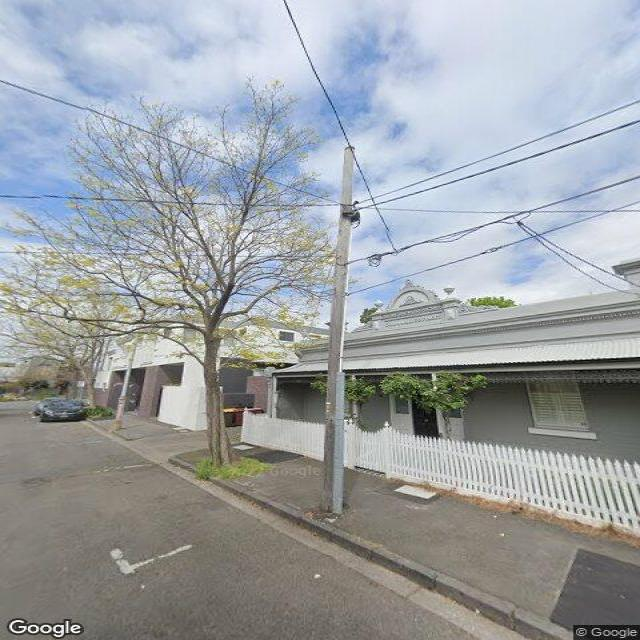timber-pole: (318, 145, 356, 516), (112, 307, 145, 431)
